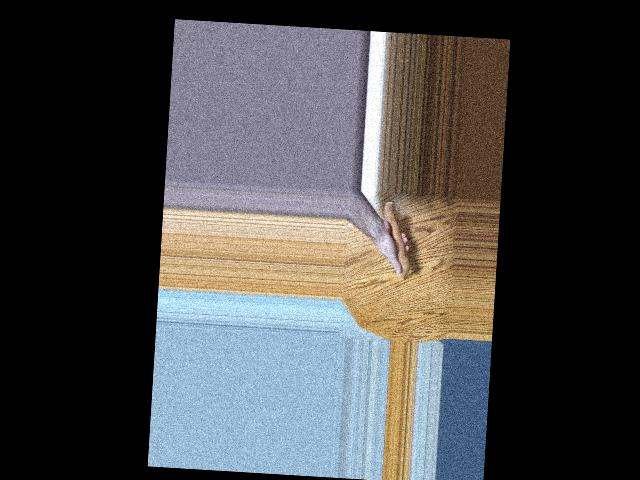sweet_potato: (377, 200, 416, 277)
